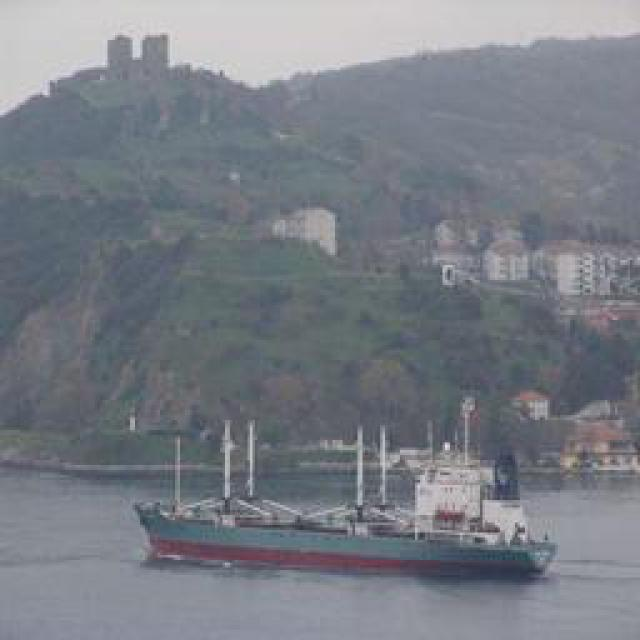Ship: (141, 451, 551, 581)
